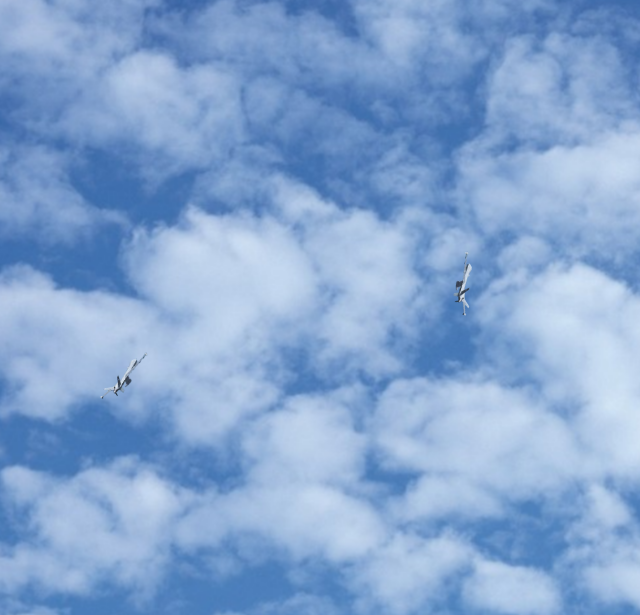military drone: (99, 351, 147, 399), (453, 251, 472, 316)
